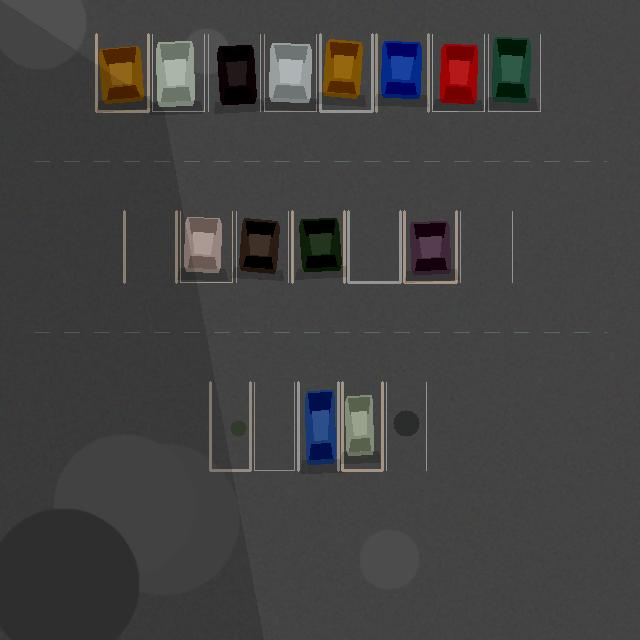space-empty: (124, 211, 176, 282), (348, 211, 400, 282), (460, 211, 512, 282), (210, 382, 250, 470), (254, 382, 294, 470), (386, 382, 426, 470)
space-occupied: (96, 34, 148, 111), (152, 34, 204, 111), (208, 34, 260, 111), (264, 34, 316, 111), (320, 34, 372, 111), (376, 34, 428, 111), (432, 34, 484, 111), (488, 34, 540, 111), (180, 211, 232, 282), (236, 211, 288, 282), (292, 211, 344, 282), (404, 211, 456, 282), (298, 382, 338, 470), (342, 382, 382, 470)
